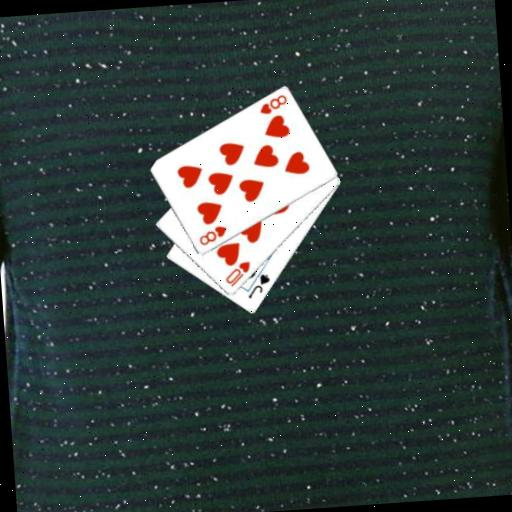10H: (221, 258, 253, 289)
8H: (255, 91, 289, 117), (195, 223, 229, 248)
JS: (244, 271, 273, 300)
